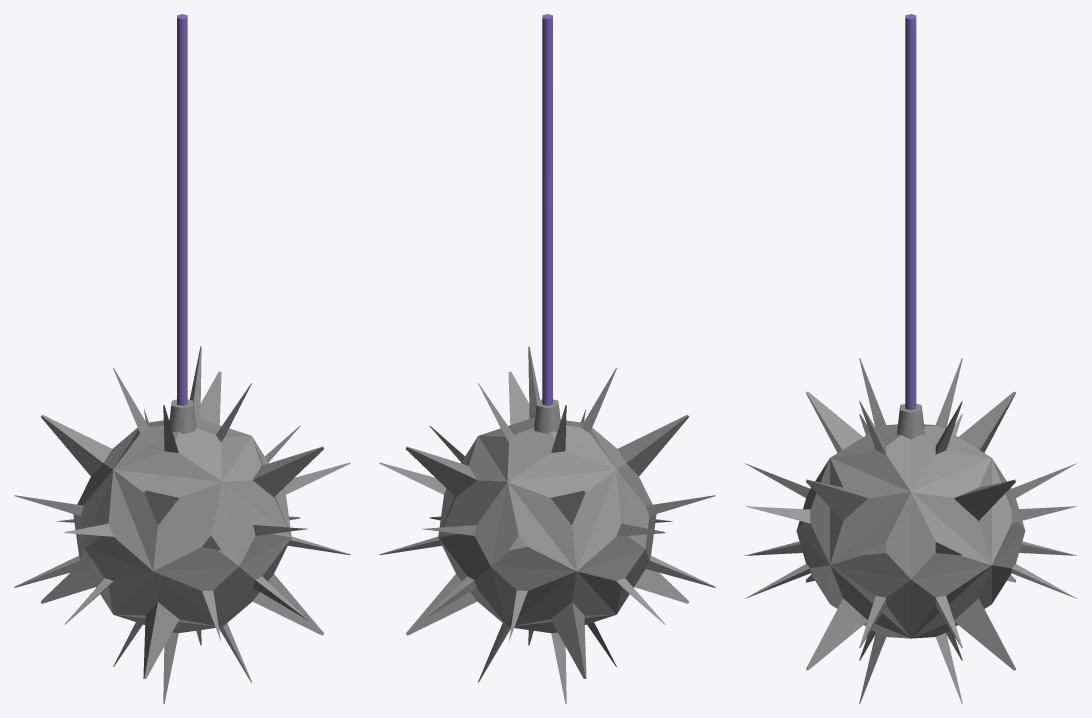
File: PallaMaglio.FBX
3 renders of one model, left to right at view 1: azimuth 30°, elevation 25°; view 2: azimuth 150°, elevation 25°; view 3: azimuth 270°, elevation 25°, orthographic.
Visible parts, largest first — view 1: PallaMaglio; view 2: PallaMaglio; view 3: PallaMaglio.
Part boxes in pixels (x1=…): PallaMaglio: x1=14, y1=14, x2=350, y2=703; PallaMaglio: x1=379, y1=14, x2=715, y2=703; PallaMaglio: x1=744, y1=14, x2=1077, y2=703.
Bounding box in the file's own units: 16.49 × 16.47 × 36.25.
